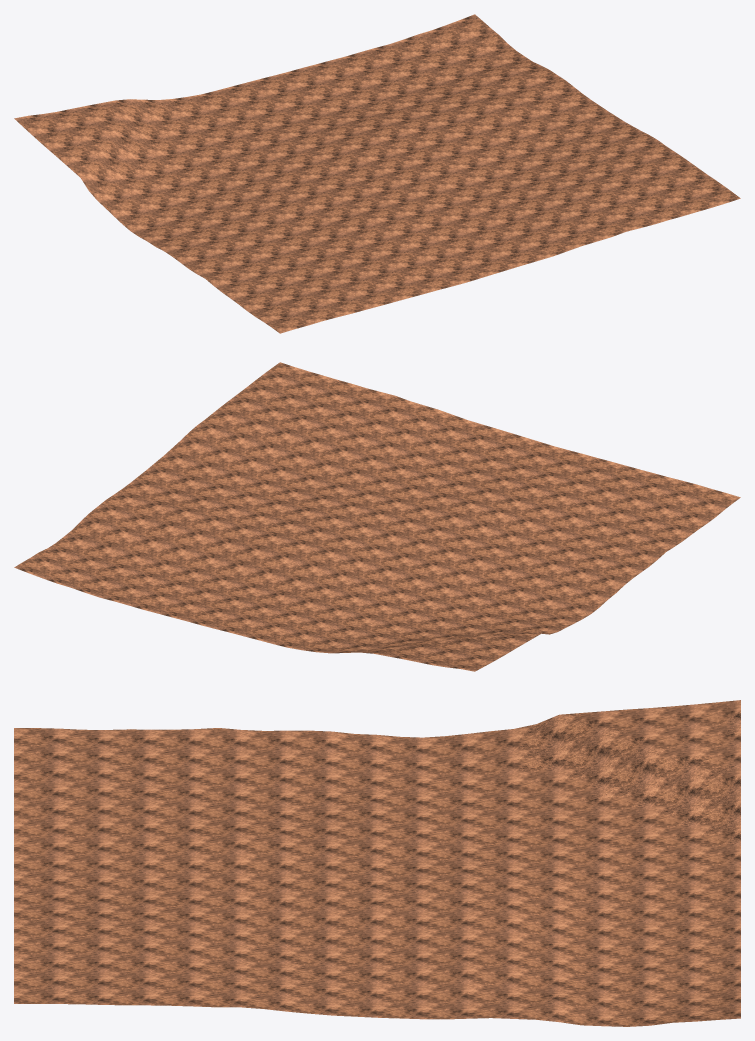
File: terrain_11_20.dae
The picture shows the model from 3 angles, top to bottom: view 1: azimuth 30°, elevation 25°; view 2: azimuth 150°, elevation 25°; view 3: azimuth 270°, elevation 25°; orthographic projection. The views are drawn at different scales.
Parts seen in each view (by area): view 1: terrain_11_20-node; view 2: terrain_11_20-node; view 3: terrain_11_20-node.
Part boxes in pixels (x1=…): terrain_11_20-node: x1=14, y1=14, x2=740, y2=333; terrain_11_20-node: x1=14, y1=362, x2=740, y2=671; terrain_11_20-node: x1=14, y1=700, x2=740, y2=1026.
Size of the model in its own units: 128 by 128 by 7.95.
1 material, 1 textured.
